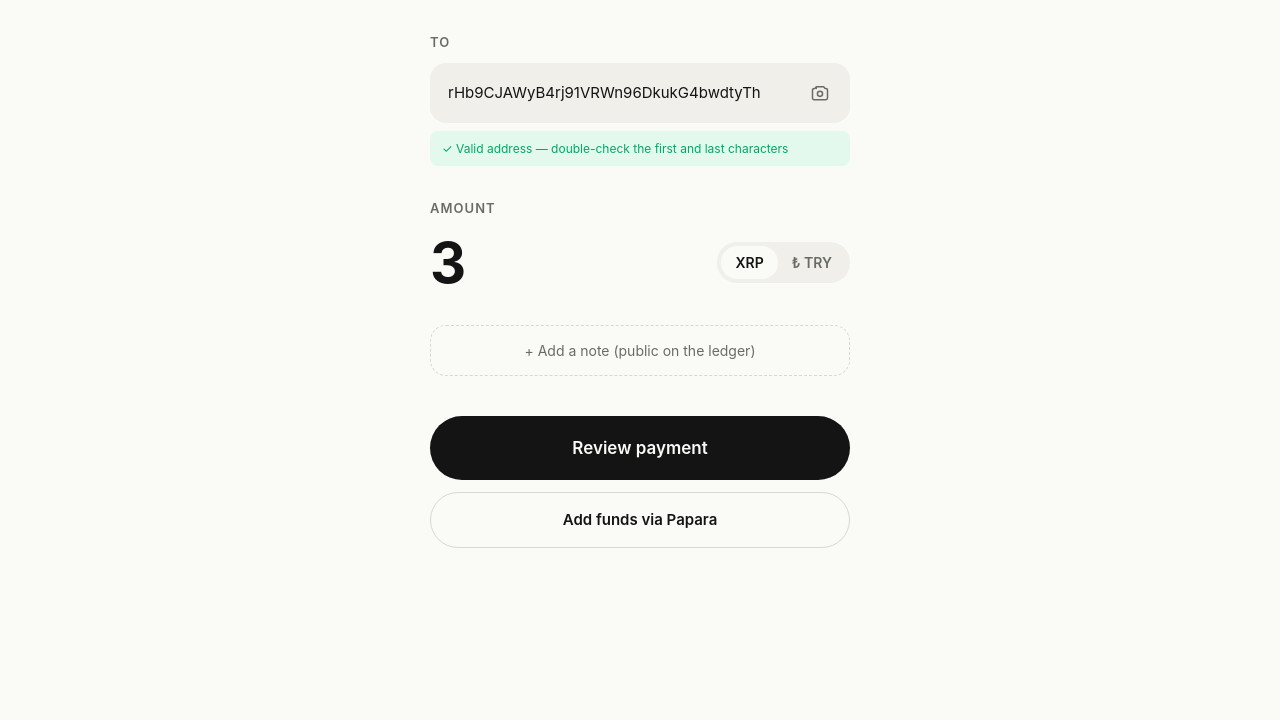
Test case: SendFlow › resolves a payment-request link and shows the private note
Click the button "Review payment" at (640, 448), box [430,416,850,480]
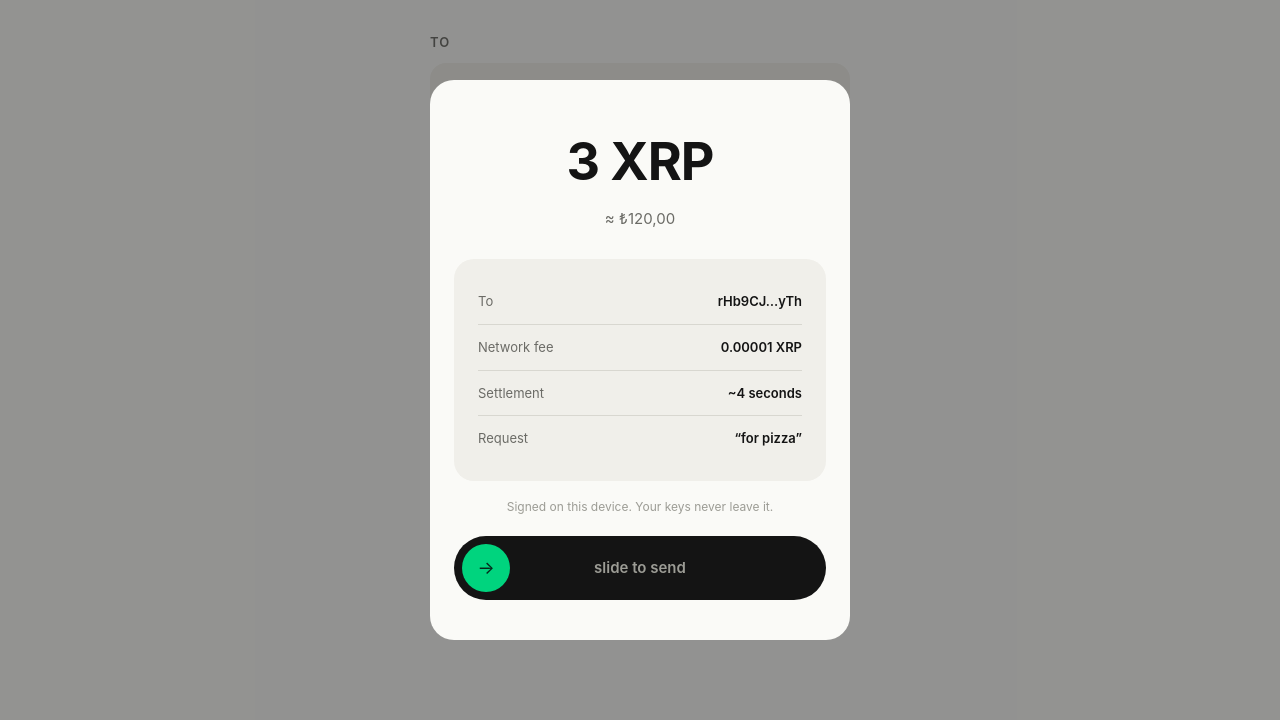
Expected: the text "“for pizza”" is shown, [734,428,802,449]
